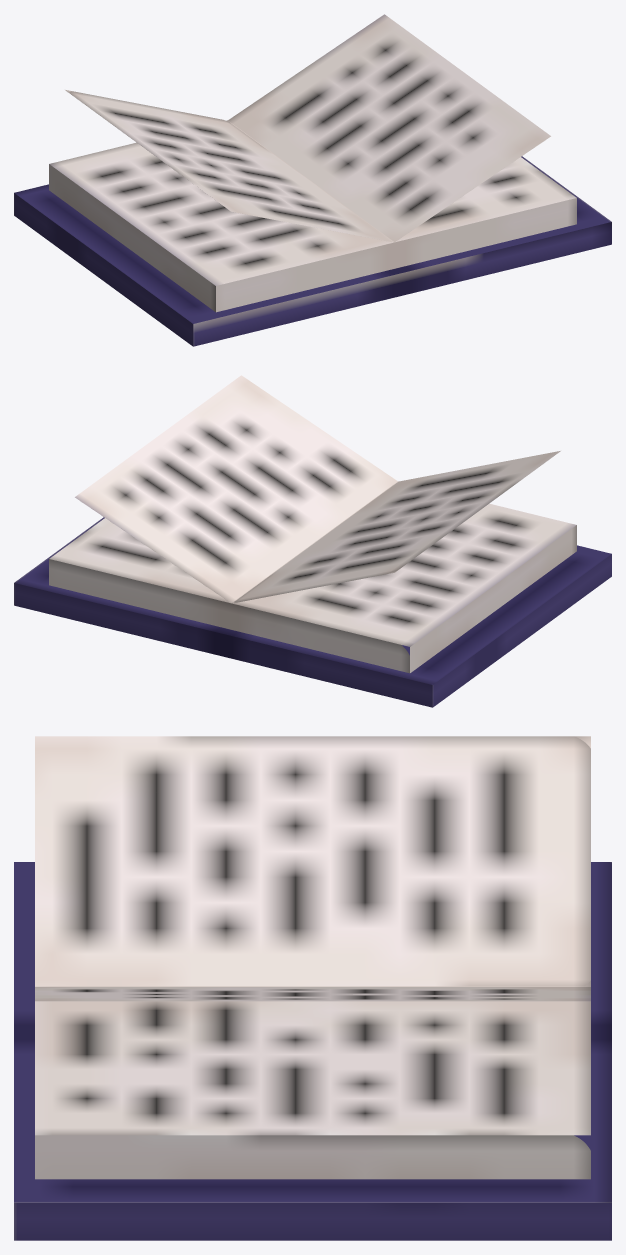
File: book.fbx
The picture shows the model from 3 angles, top to bottom: view 1: azimuth 30°, elevation 25°; view 2: azimuth 150°, elevation 25°; view 3: azimuth 270°, elevation 25°; orthographic projection. The views are drawn at different scales.
Visible parts, largest first — view 1: cube_2, cube_1, cube, cube_3; view 2: cube_2, cube_1, cube, cube_3; view 3: cube_3, cube_1, cube, cube_2.
Boxes of the visible parts, left/top/right/bottom form: cube_2: left=228, top=14, right=550, bottom=242; cube_1: left=49, top=120, right=576, bottom=312; cube: left=14, top=156, right=611, bottom=346; cube_3: left=65, top=90, right=393, bottom=242; cube_2: left=75, top=375, right=397, bottom=603; cube_1: left=49, top=481, right=576, bottom=673; cube: left=14, top=517, right=611, bottom=707; cube_3: left=234, top=451, right=560, bottom=602; cube_3: left=35, top=736, right=590, bottom=986; cube_1: left=35, top=980, right=590, bottom=1179; cube: left=14, top=862, right=611, bottom=1240; cube_2: left=35, top=987, right=590, bottom=1001.
Bounding box in the file's own units: 72.5 × 19.8 × 53.75.
1 material, 1 textured.
